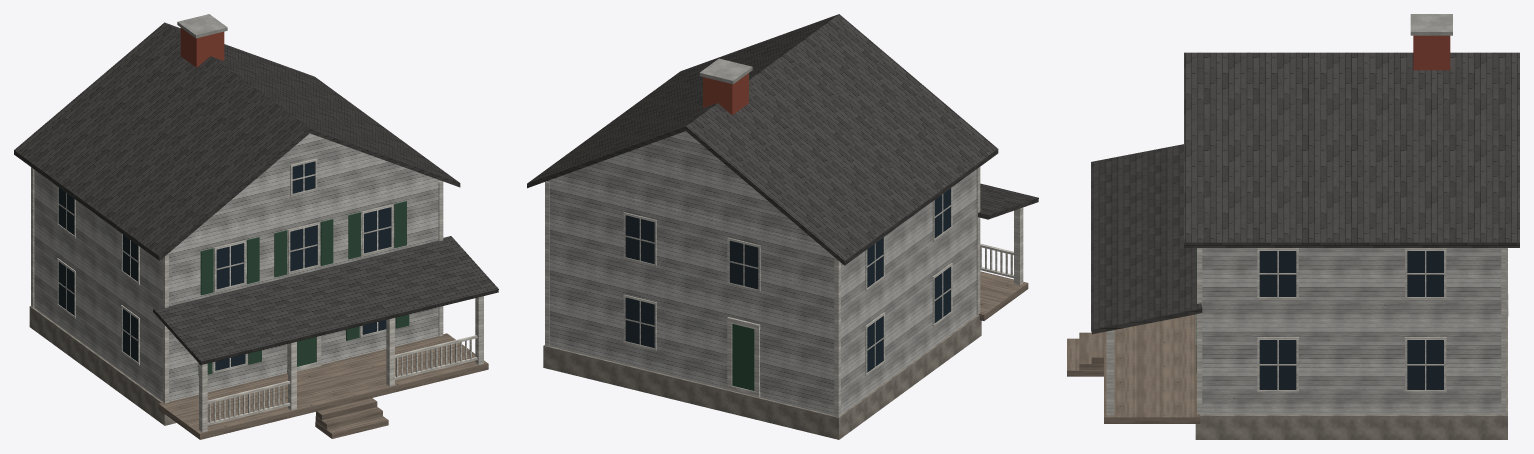
File: country-farmhouse.glb
The picture shows the model from 3 angles, left to right: view 1: azimuth 30°, elevation 25°; view 2: azimuth 150°, elevation 25°; view 3: azimuth 270°, elevation 25°; orthographic projection. The views are drawn at different scales.
Parts seen in each view (by area): view 1: Farmhouse; view 2: Farmhouse; view 3: Farmhouse.
Part boxes in pixels (left/top/right/bottom): Farmhouse: left=14, top=14, right=498, bottom=439; Farmhouse: left=527, top=14, right=1038, bottom=439; Farmhouse: left=1067, top=14, right=1519, bottom=439.
Size of the model in its own units: 9.8 by 9.1 by 11.05.
9 materials, 6 textured.
